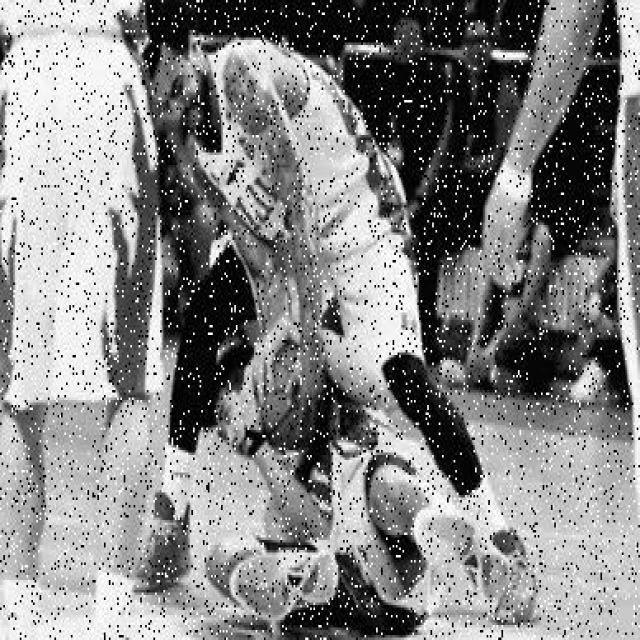fall: (206, 332, 452, 630)
